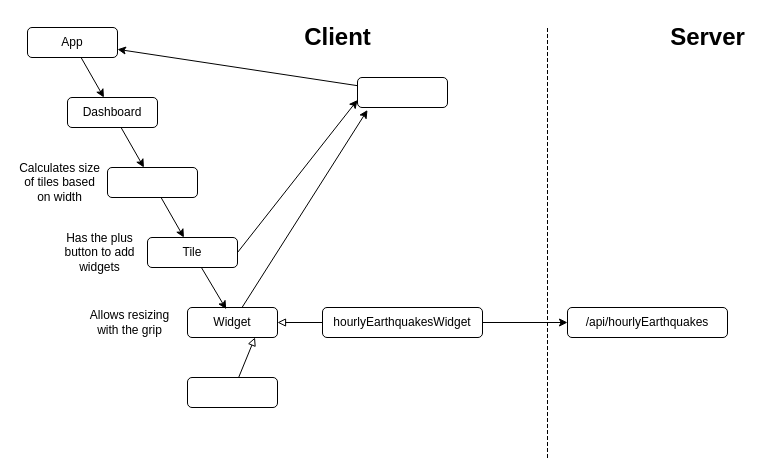
This 774x475 diagram has some shape labels left out. Here are the shapes that lost their labels. From the top down, the centre of each, then its label:
point 402,92: appEvents
point 152,182: TileGrid
point 232,392: ClockWidget
